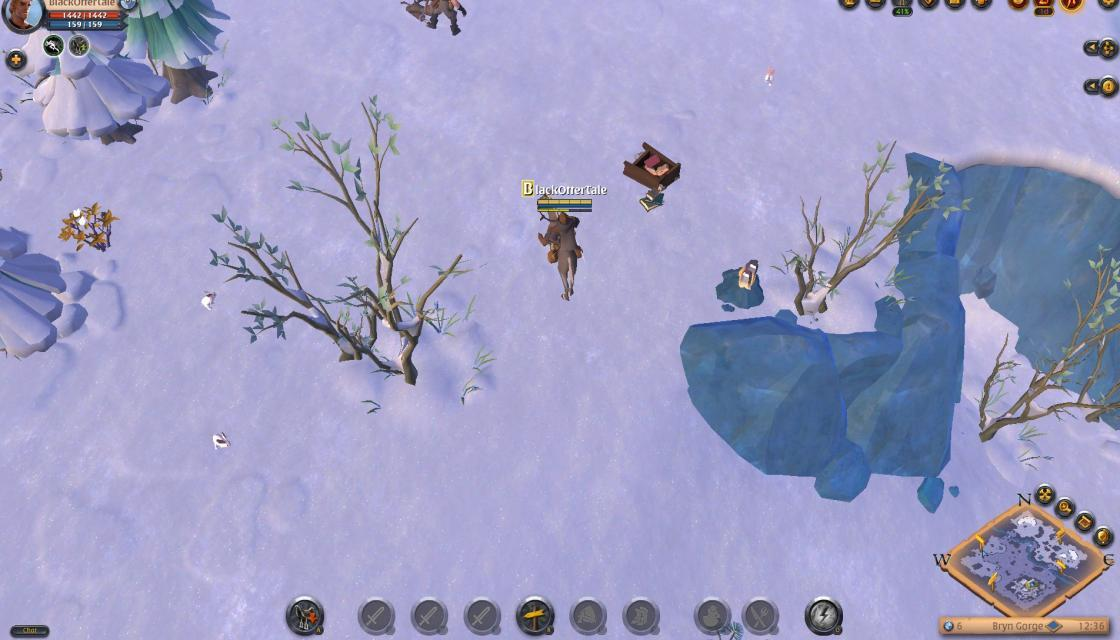copperore: (708, 260, 771, 312)
